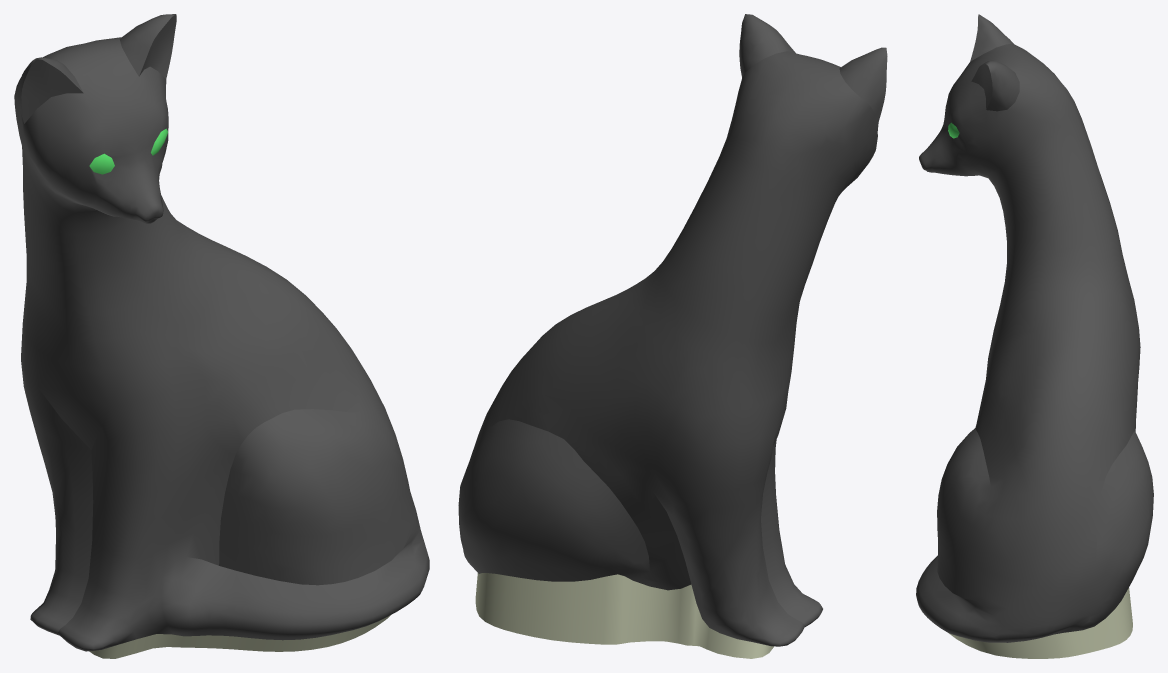
Rendered from cat.obj.
3 views of the same model, side by side, from view 1: azimuth 30°, elevation 25°; view 2: azimuth 150°, elevation 25°; view 3: azimuth 270°, elevation 25° (orthographic). The views are drawn at different scales.
Visible parts, largest first — view 1: Cat; view 2: Cat; view 3: Cat.
Boxes of the visible parts, box(x1,y1,x2,y2) form: Cat: box(14, 14, 429, 658); Cat: box(458, 14, 887, 658); Cat: box(916, 14, 1153, 658).
Bounding box in the file's own units: 16.04 × 23.67 × 10.19.
